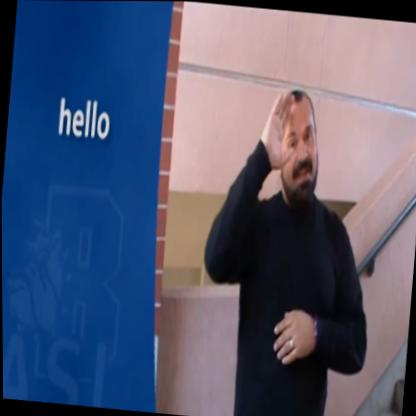Hello: (250, 77, 340, 223)
